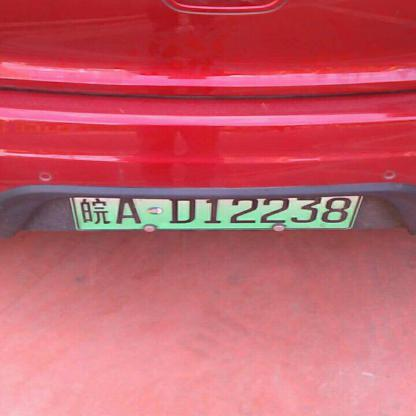lp: (73, 195, 361, 230)
